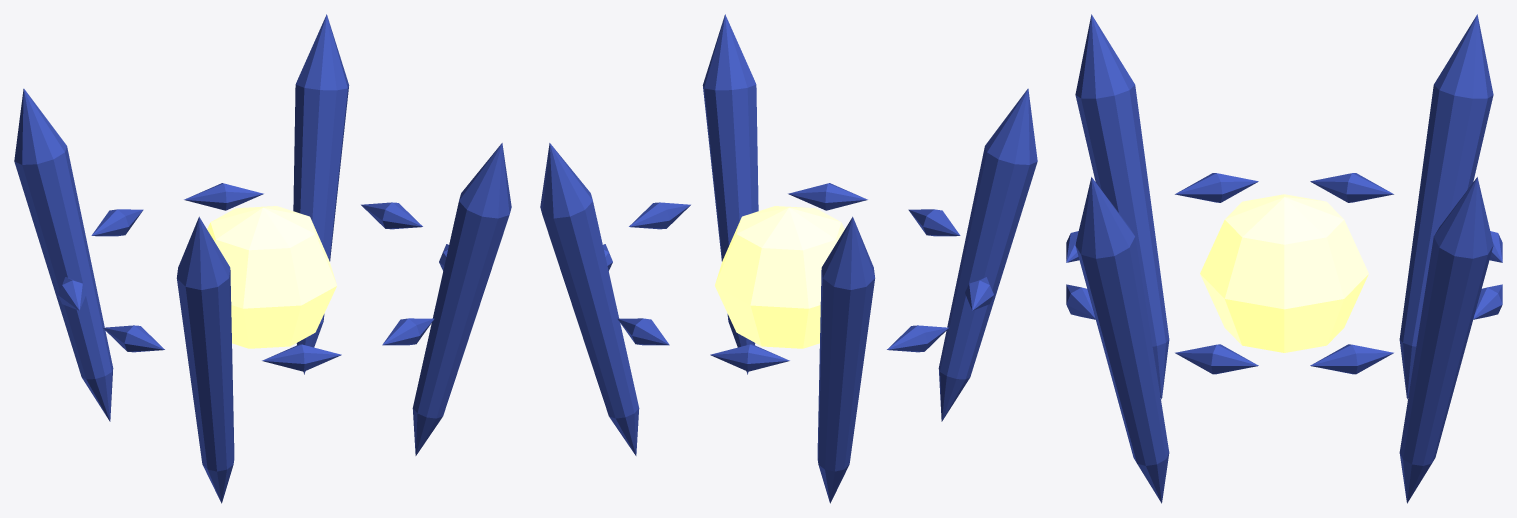
The model's file is Cherubim.glb.
The picture shows the model from 3 angles, left to right: view 1: azimuth 30°, elevation 25°; view 2: azimuth 150°, elevation 25°; view 3: azimuth 270°, elevation 25°; orthographic projection. The views are drawn at different scales.
Visible parts, largest first — view 1: Foot, Core, Ring Part, Ring Part.001; view 2: Foot, Core, Ring Part, Ring Part.001; view 3: Foot, Core, Ring Part.001, Ring Part.
Boxes of the visible parts, box(x1,y1,x2,y2) form: Foot: box(14, 14, 511, 503); Core: box(207, 206, 336, 348); Ring Part: box(91, 183, 434, 371); Ring Part.001: box(58, 202, 448, 352); Foot: box(540, 14, 1037, 503); Core: box(715, 206, 844, 348); Ring Part: box(617, 183, 960, 371); Ring Part.001: box(603, 202, 993, 352); Foot: box(1075, 14, 1493, 503); Core: box(1200, 194, 1368, 352); Ring Part.001: box(1175, 173, 1393, 374); Ring Part: box(1066, 231, 1502, 319).
Size of the model in its own units: 0.9684 by 0.8729 by 0.9684.
